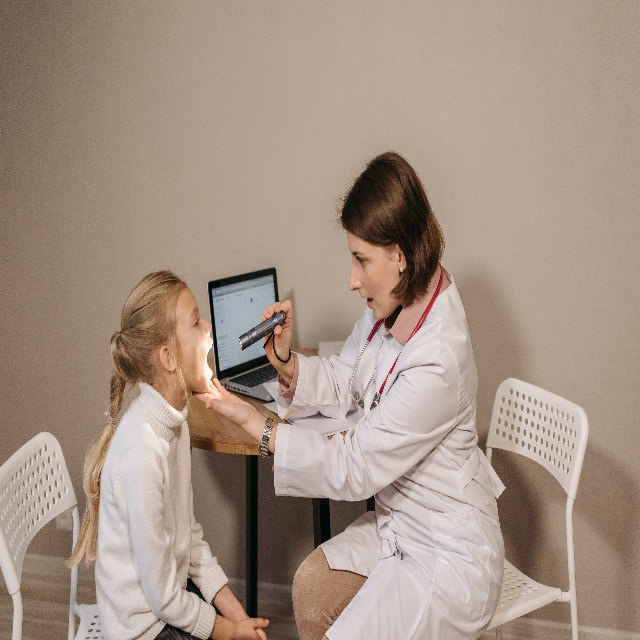Sin_guantes: (192, 377, 256, 443), (261, 298, 292, 373), (233, 612, 269, 640)
